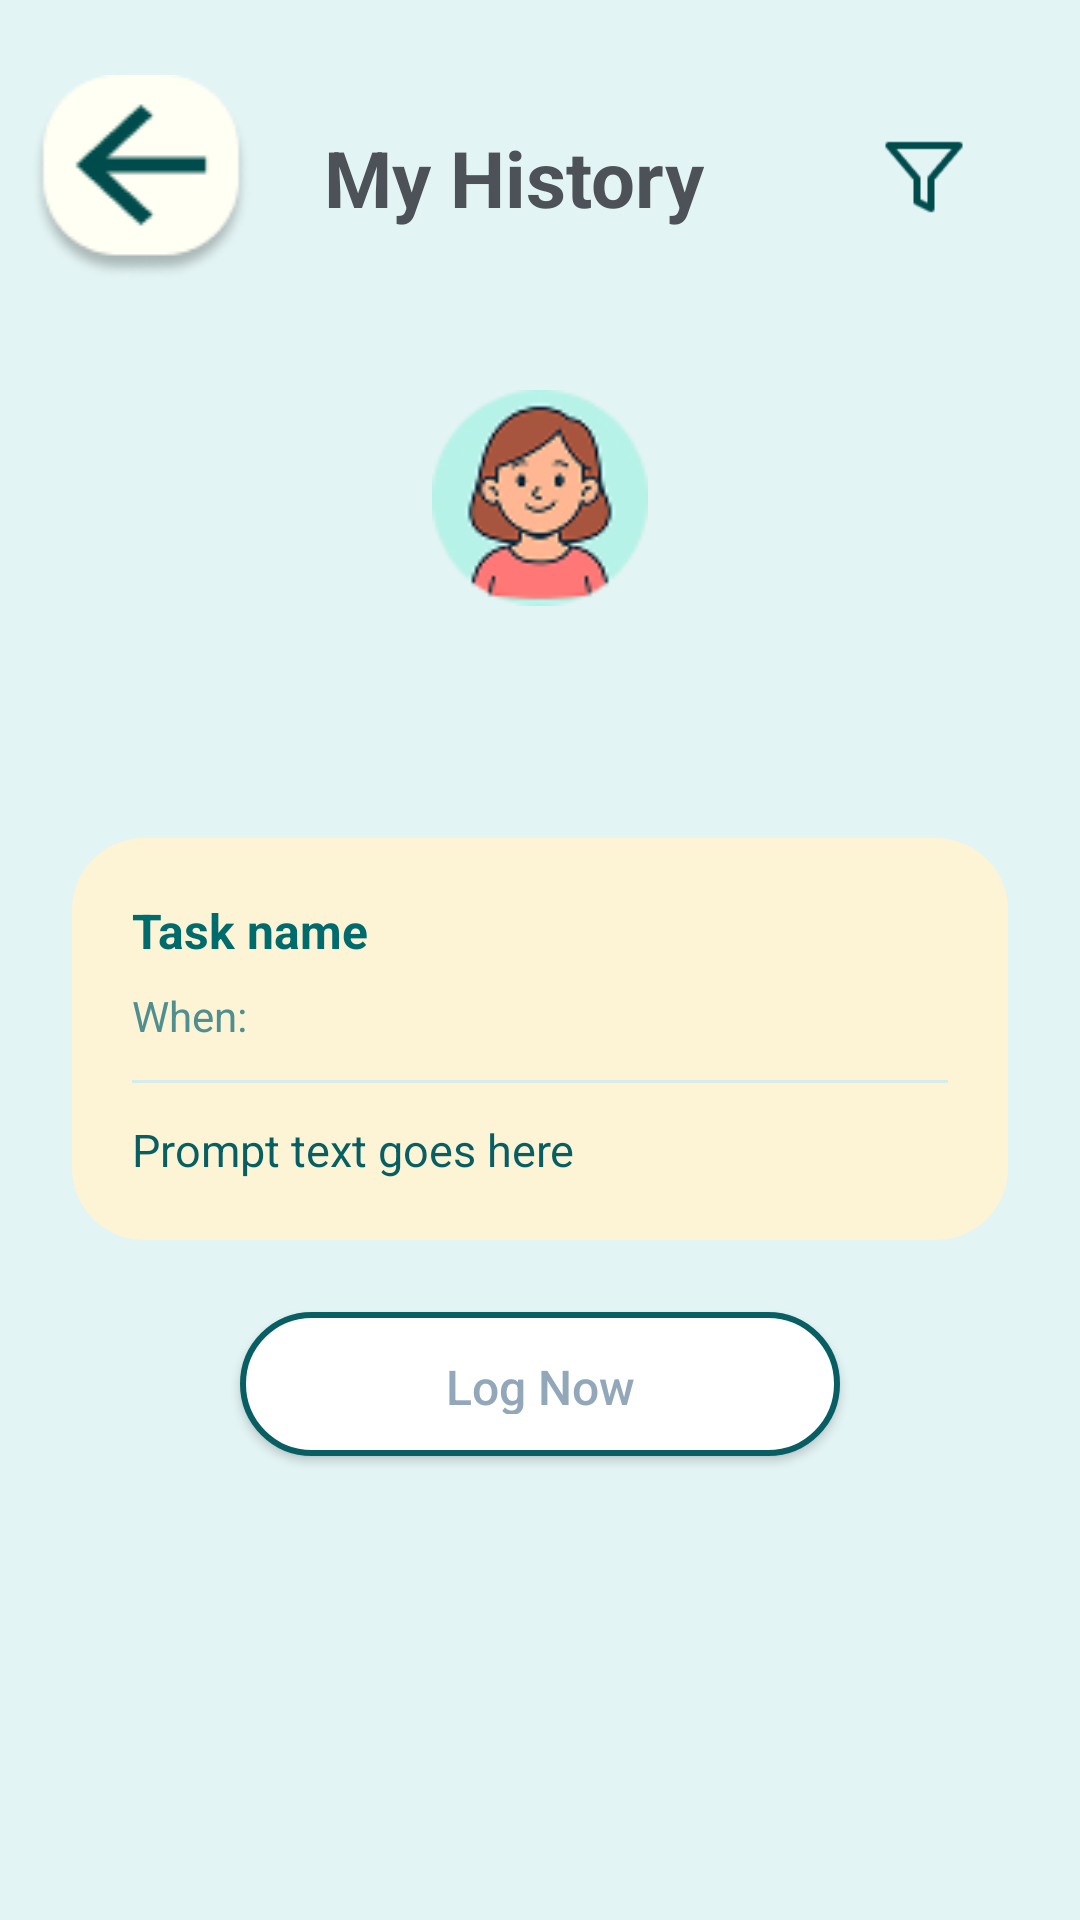

Where icons sit on this 1080x1920 app screen, as (x1, y1, x2, y2):
Back: (43, 75, 239, 268)
Filter history: (885, 141, 963, 213)
Task sender avatar: (432, 390, 648, 606)
